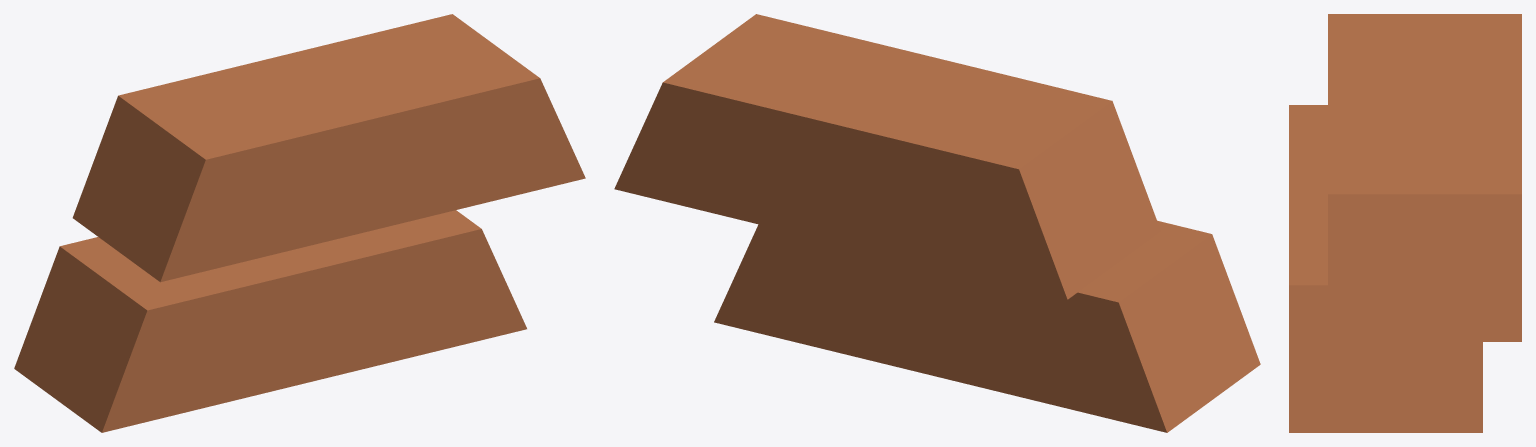
Rendered from copper_bar.glb.
3 renders of one model, left to right at view 1: azimuth 30°, elevation 25°; view 2: azimuth 150°, elevation 25°; view 3: azimuth 270°, elevation 25°, orthographic. The views are drawn at different scales.
Visible parts, largest first — view 1: copper_bar_v0; view 2: copper_bar_v0; view 3: copper_bar_v0.
Part boxes in pixels (box(x1,y1,x2,y2)): copper_bar_v0: box(14, 14, 585, 432); copper_bar_v0: box(614, 14, 1260, 432); copper_bar_v0: box(1289, 14, 1521, 432).
Bounding box in the file's own units: 0.33 × 0.145 × 0.12.
